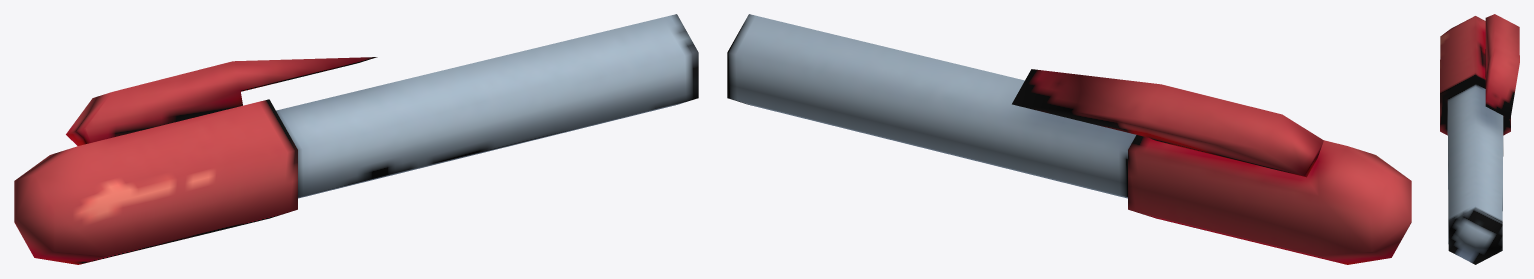
File: SM_Marker.glb
The picture shows the model from 3 angles, left to right: view 1: azimuth 30°, elevation 25°; view 2: azimuth 150°, elevation 25°; view 3: azimuth 270°, elevation 25°; orthographic projection. The views are drawn at different scales.
Visible parts, largest first — view 1: SM_Marker; view 2: SM_Marker; view 3: SM_Marker.
Part boxes in pixels (bbox=[...]): SM_Marker: bbox=[14, 14, 698, 264]; SM_Marker: bbox=[727, 14, 1411, 264]; SM_Marker: bbox=[1440, 14, 1519, 264].
Bounding box in the file's own units: 0.4095 × 0.0885 × 0.0682.
Materials: 1 (1 with a texture image).
